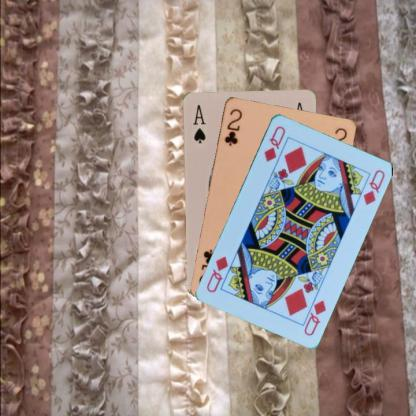2c: (221, 106, 244, 147)
As: (190, 102, 206, 144)
Qd: (299, 291, 327, 337), (261, 123, 287, 163)
